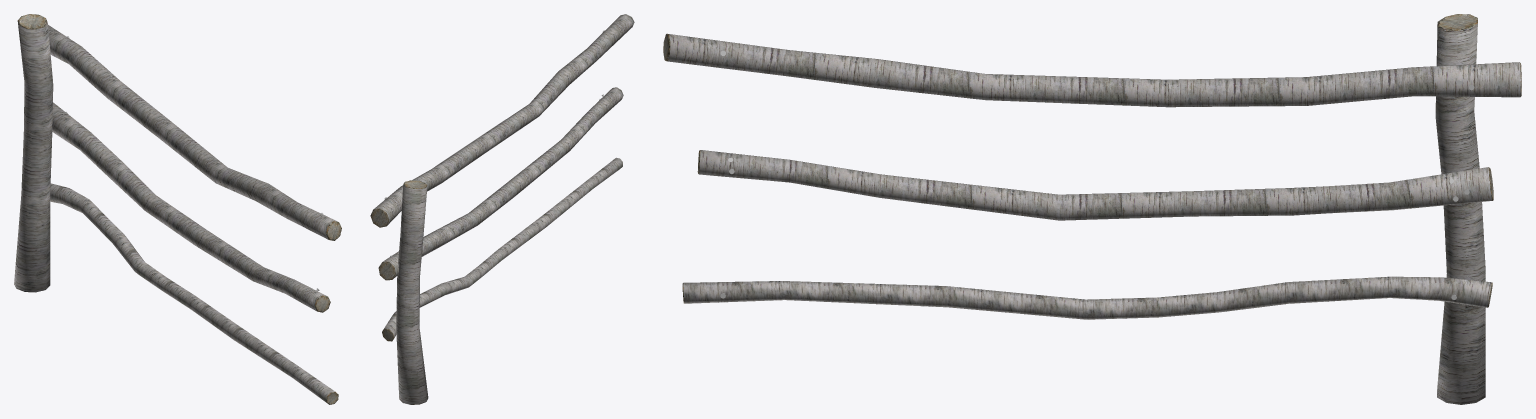
The model's file is Birch_tree_fence_D.fbx.
3 renders of one model, left to right at view 1: azimuth 30°, elevation 25°; view 2: azimuth 150°, elevation 25°; view 3: azimuth 270°, elevation 25°, orthographic. The views are drawn at different scales.
Parts seen in each view (by area): view 1: Birch_tree_fence_D; view 2: Birch_tree_fence_D; view 3: Birch_tree_fence_D.
Boxes of the visible parts, left/top/right/bottom form: Birch_tree_fence_D: left=14, top=14, right=341, bottom=404; Birch_tree_fence_D: left=370, top=14, right=634, bottom=404; Birch_tree_fence_D: left=663, top=14, right=1521, bottom=404.
Size of what is drawn, in the model's own units: 0.2367 by 1.13 by 2.35.
